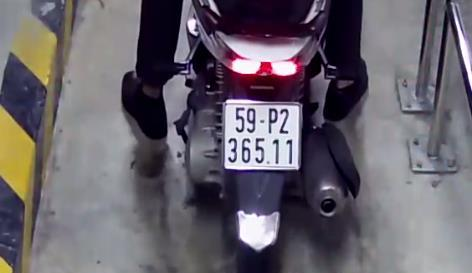lisence: (223, 101, 303, 171)
